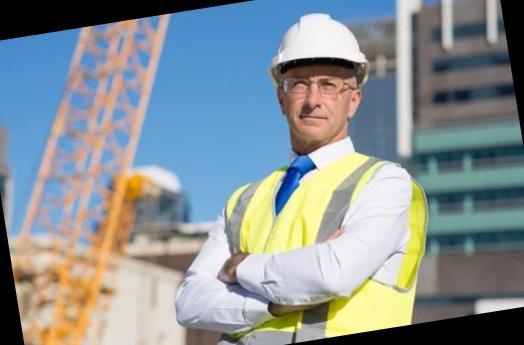Vest: (205, 139, 446, 345)
